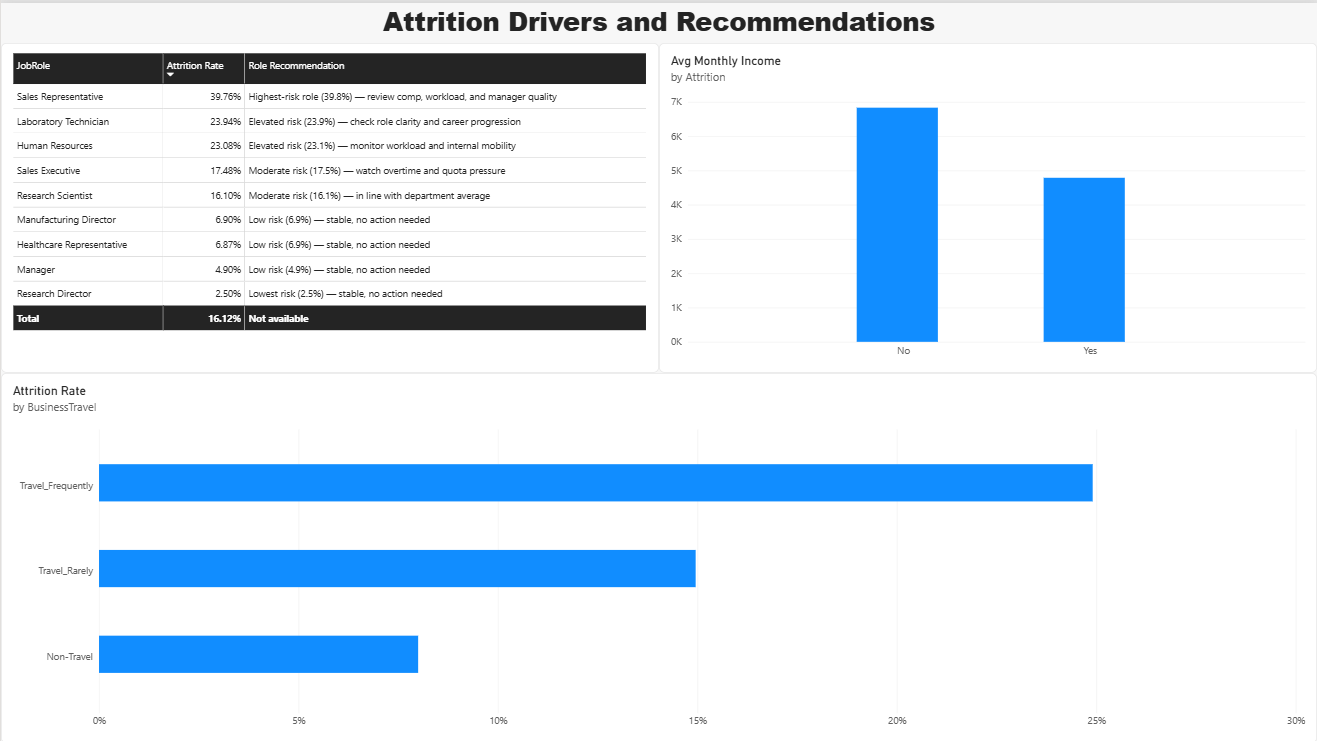

The page's visual inventory and layout, read from the dashboard file:
{"tool":"powerbi","page":{"name":"Drivers & Recommendations","canvas":[1920,1080],"ordinal":1},"visuals":[{"type":"textbox","box":[0,0,1920,58.4],"z":0},{"type":"tableEx","fields":{"Values":["hr_attrition_cleaned.JobRole","_Measures.Attrition Rate","_Measures.Role Recommendation"]},"box":[0,58.4,960,481.5],"z":1},{"type":"clusteredColumnChart","fields":{"Category":["hr_attrition_cleaned.Attrition"],"Y":["_Measures.Avg Monthly Income"]},"box":[960,58.4,960,481],"z":2},{"type":"clusteredBarChart","fields":{"Category":["hr_attrition_cleaned.BusinessTravel"],"Y":["_Measures.Attrition Rate"]},"box":[0,539.8,1920,539.8],"z":3}]}

Visuals, with their boxes in screenshot pixels (x1, y1, x2, y2), scaled from the page's 1920x1080 canvas onto the 1317x741 screenshot:
textbox: <box>0,0,1316,40</box>
tableEx - hr_attrition_cleaned.JobRole x _Measures.Attrition Rate: <box>0,40,658,370</box>
clusteredColumnChart - hr_attrition_cleaned.Attrition x _Measures.Avg Monthly Income: <box>658,40,1316,370</box>
clusteredBarChart - hr_attrition_cleaned.BusinessTravel x _Measures.Attrition Rate: <box>0,370,1316,740</box>
